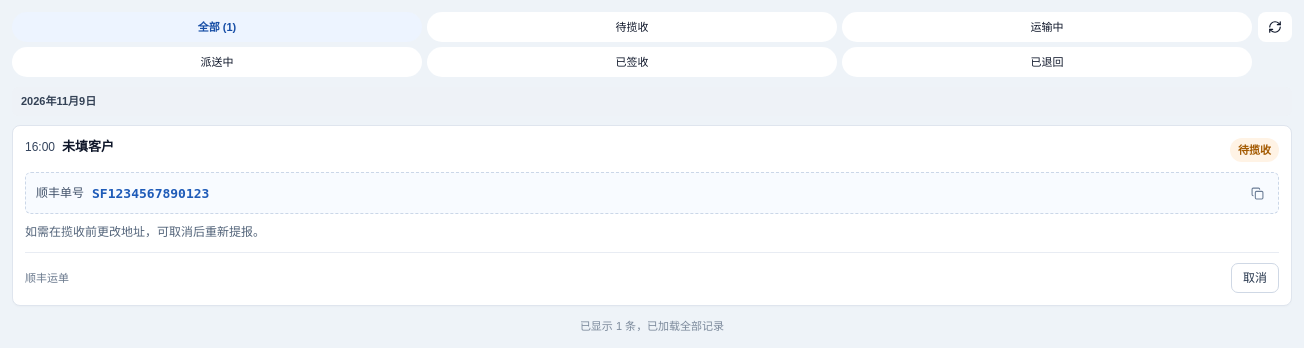
Test: clears the owner list if access is denied on the reread after carrier status refresh
This screenshot has width=1304, height=348.
Check: the list item with aria-label "提报 STORED" is shown, box [12,125,1292,306]
Click the button named "刷新提报记录": (1275, 27) [1258,12,1292,42]
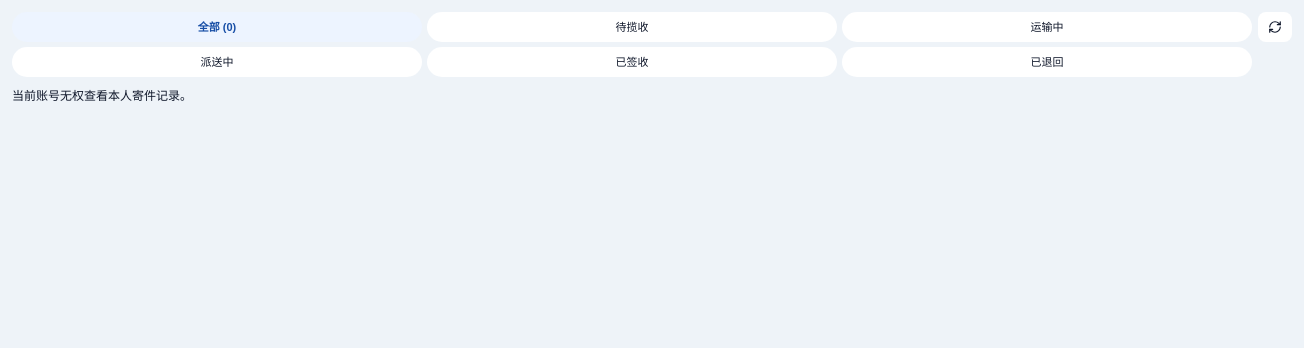
Check: the message reads "当前账号无权查看本人寄件记录。", box [12,89,192,103]
